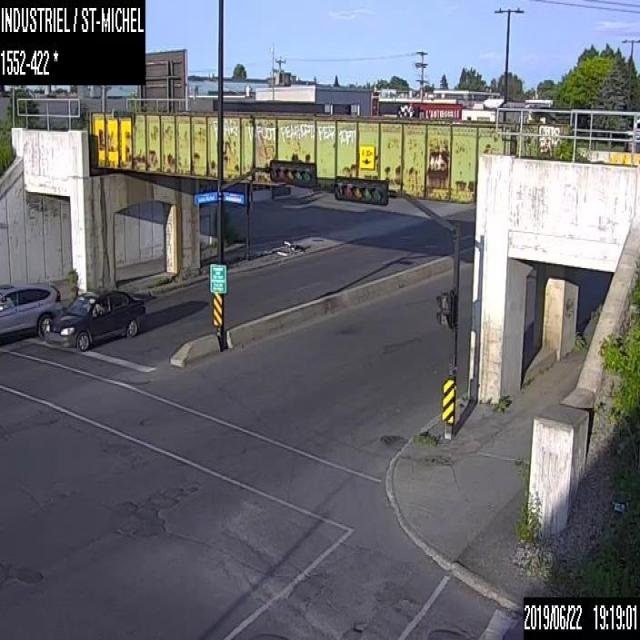vehicle: (45, 289, 145, 352), (0, 280, 61, 351)
